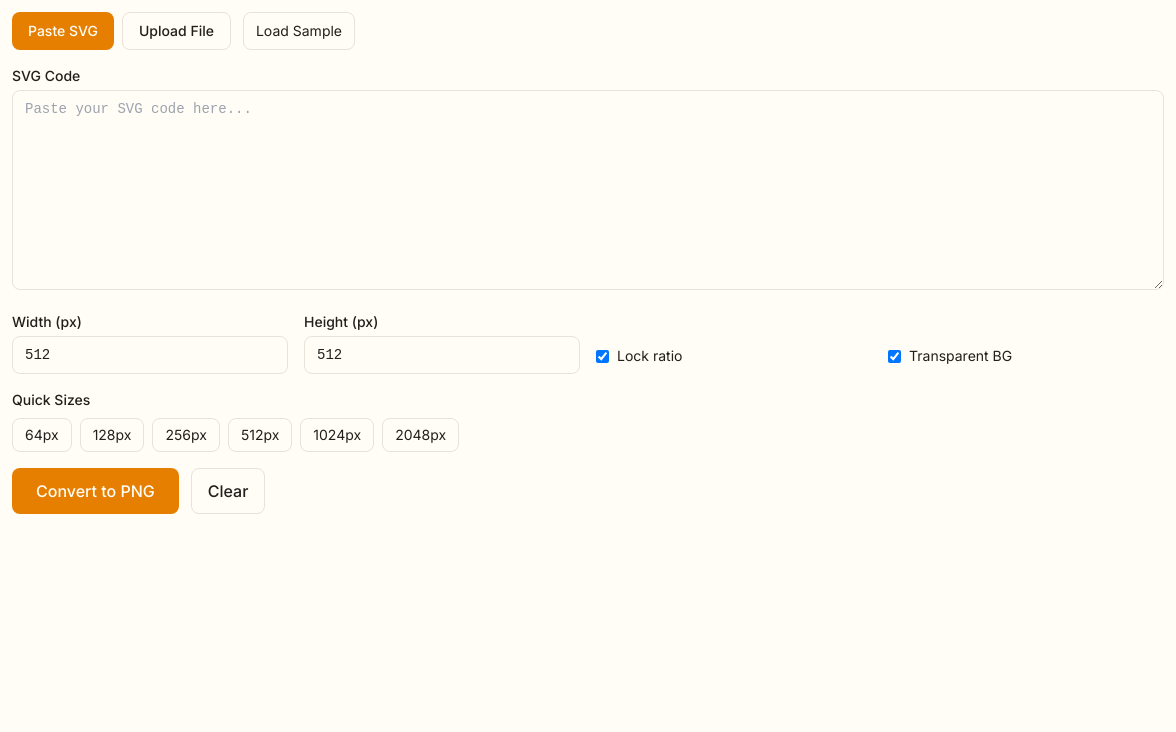
SvgToPng › clears all fields when Clear is clicked
The width and height of the screenshot is (1176, 732).
Type "<svg></svg>" into the text box named "SVG code input" at {"x": 588, "y": 190}, box [12,90,1164,290]
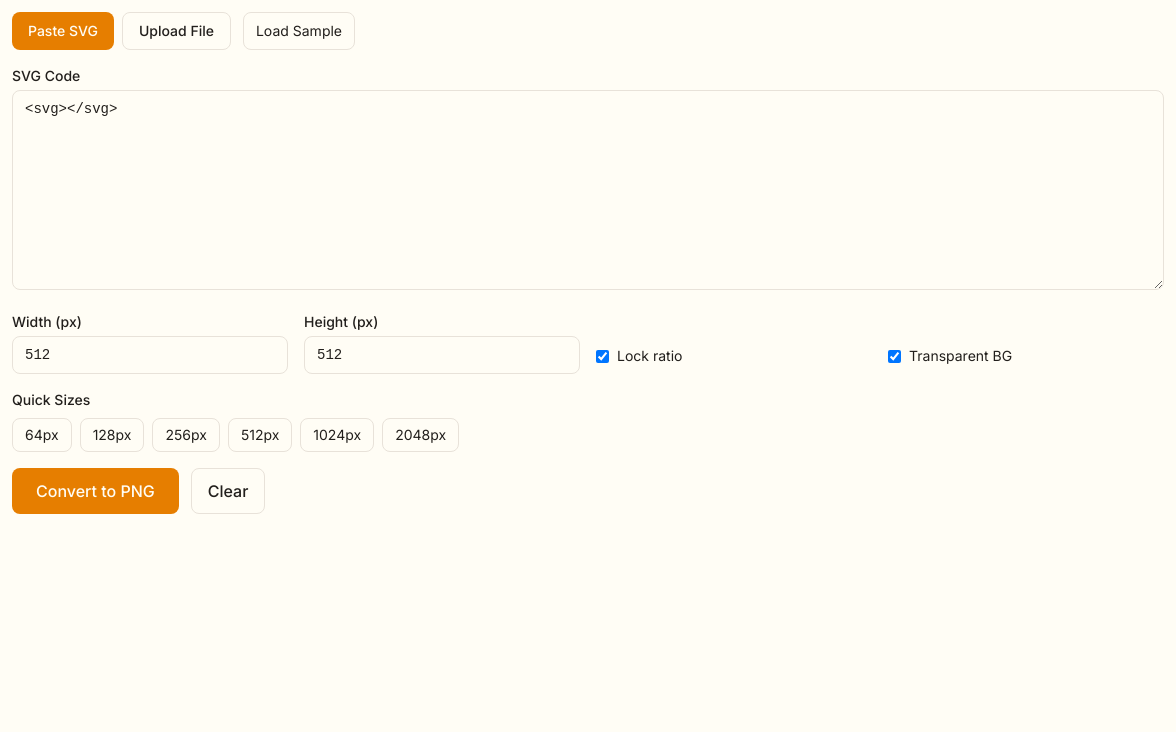
Click the button "Clear" at {"x": 228, "y": 491}, box [191,468,265,514]
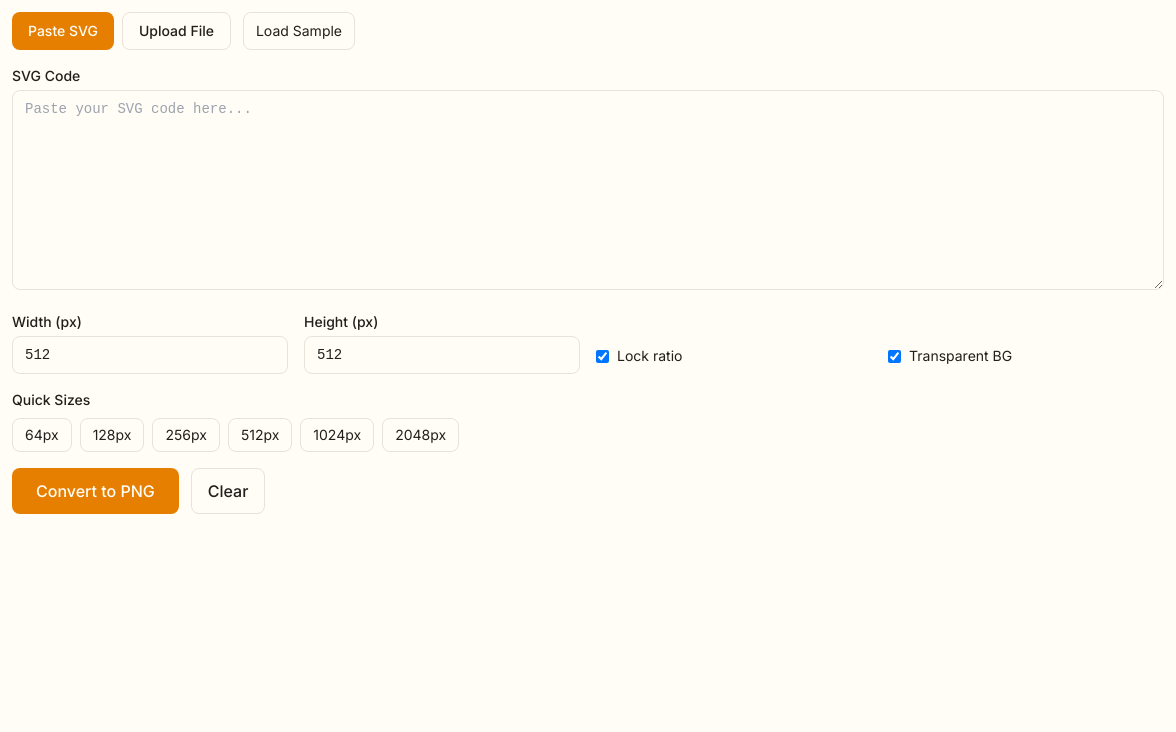
Check: the text box named "SVG code input" is empty, box [12,90,1164,290]
